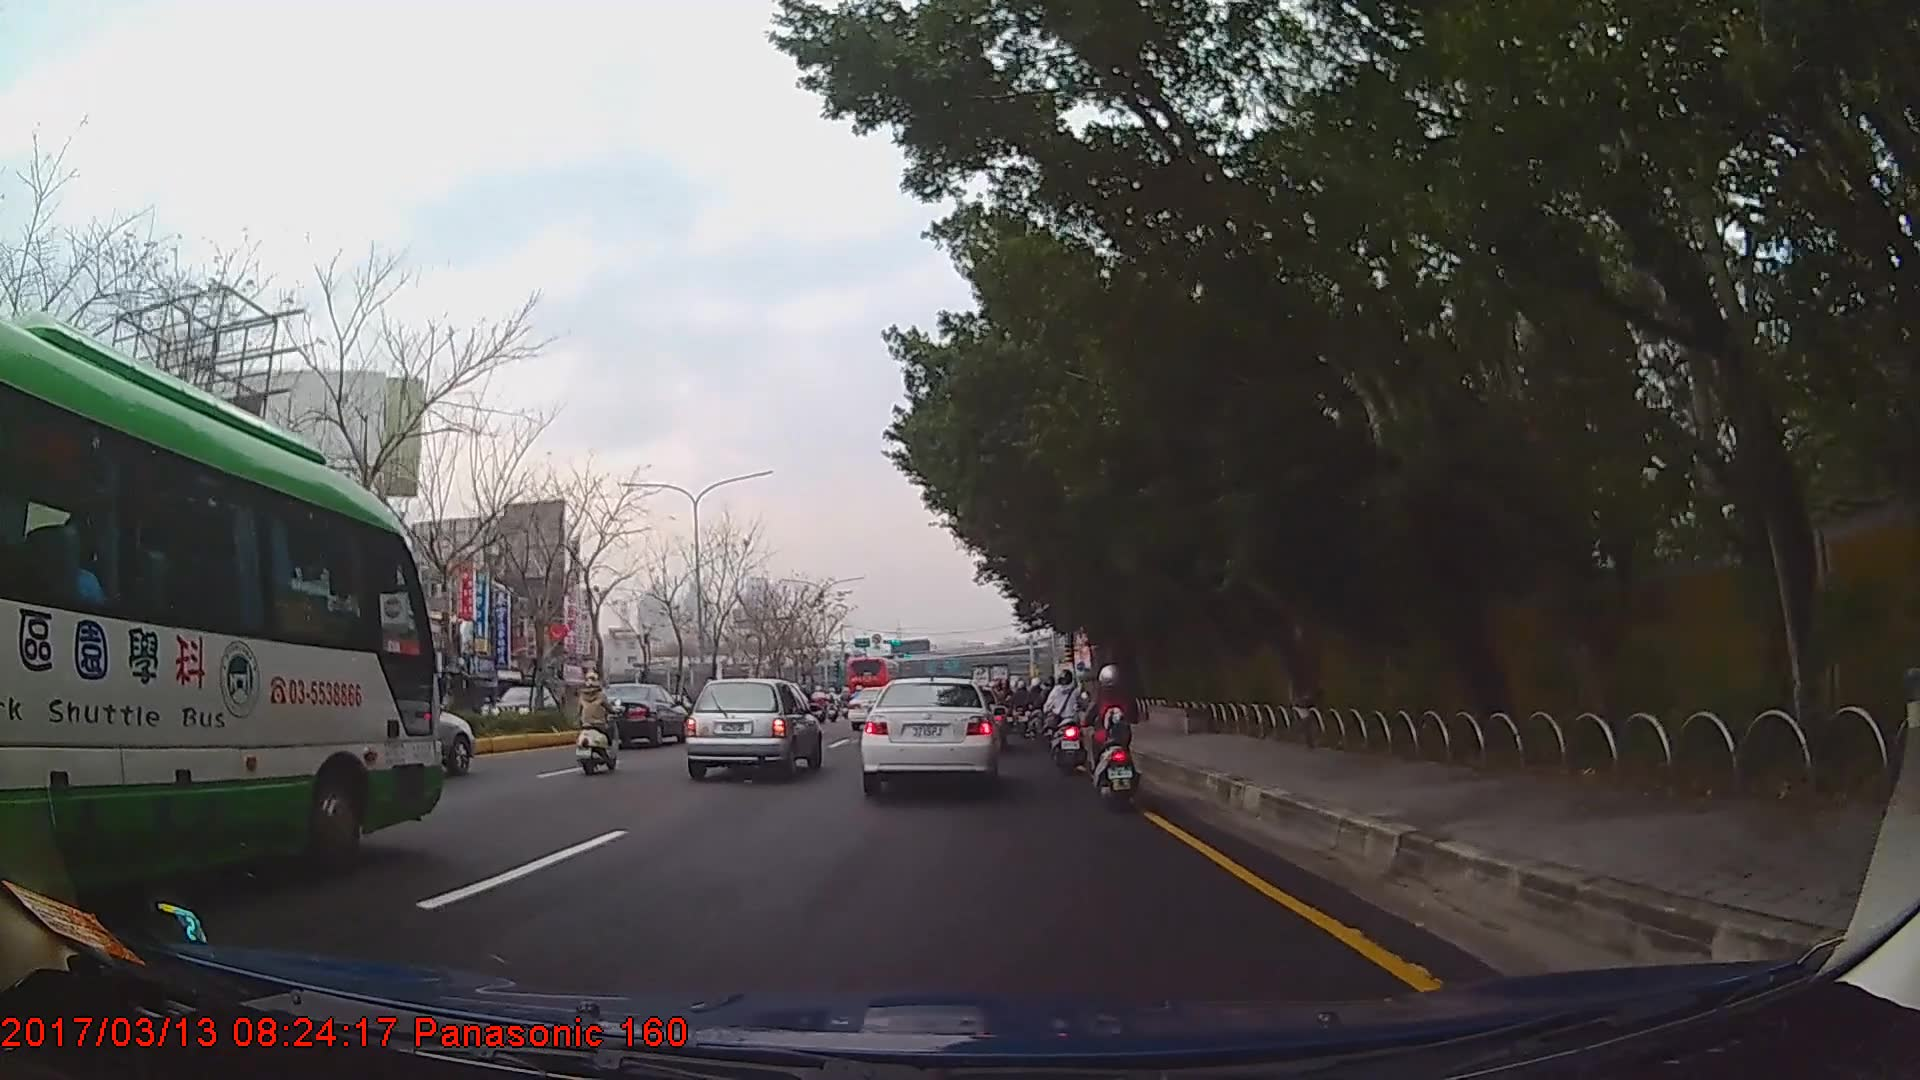rider: (1086, 664, 1145, 813), (1048, 670, 1091, 776), (578, 671, 620, 775), (1040, 676, 1063, 749)
vehicle: (0, 292, 447, 907), (857, 675, 1000, 794), (682, 675, 822, 779), (577, 678, 692, 746), (483, 682, 561, 730), (845, 651, 899, 705)
